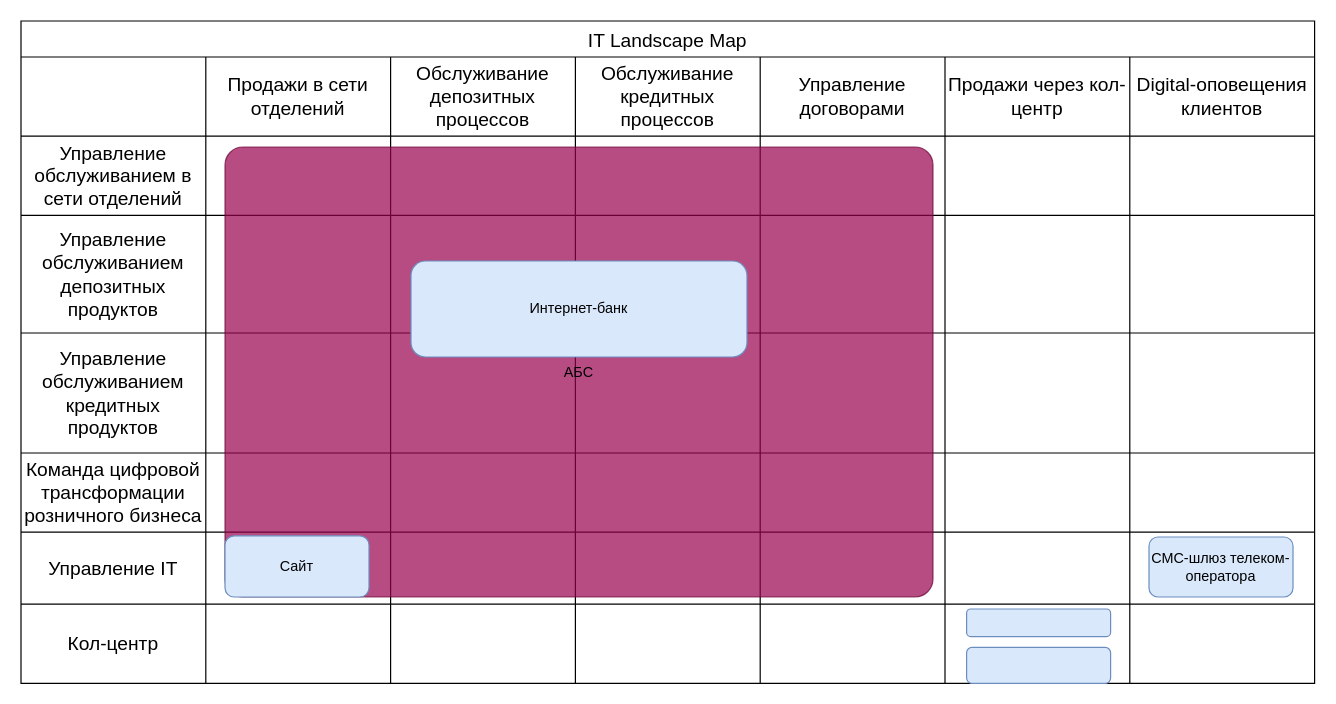
This 1336x704 diagram has some shape labels left out. Each missing label, with the centre of its shape:
Система кол-центра: the point at 1038,622
Система партнерского кол-центра: the point at 1038,664
